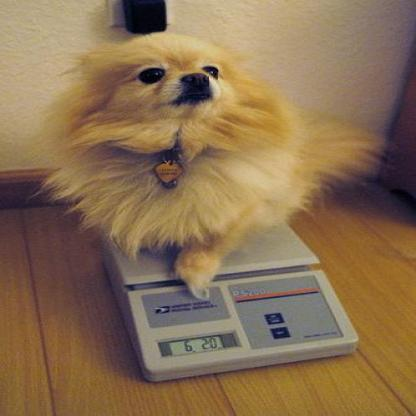Pomeranian: (44, 33, 374, 299)
